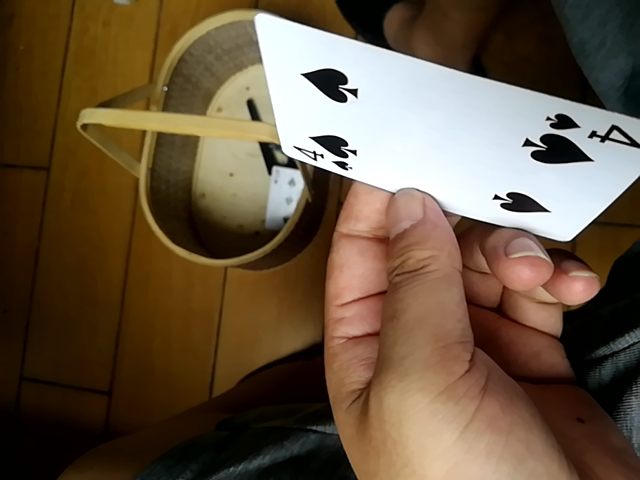ht 4: (243, 16, 637, 246)
